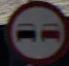No overtake: (7, 1, 63, 57)
